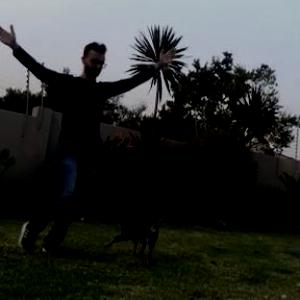takeoff: (4, 22, 156, 236)
